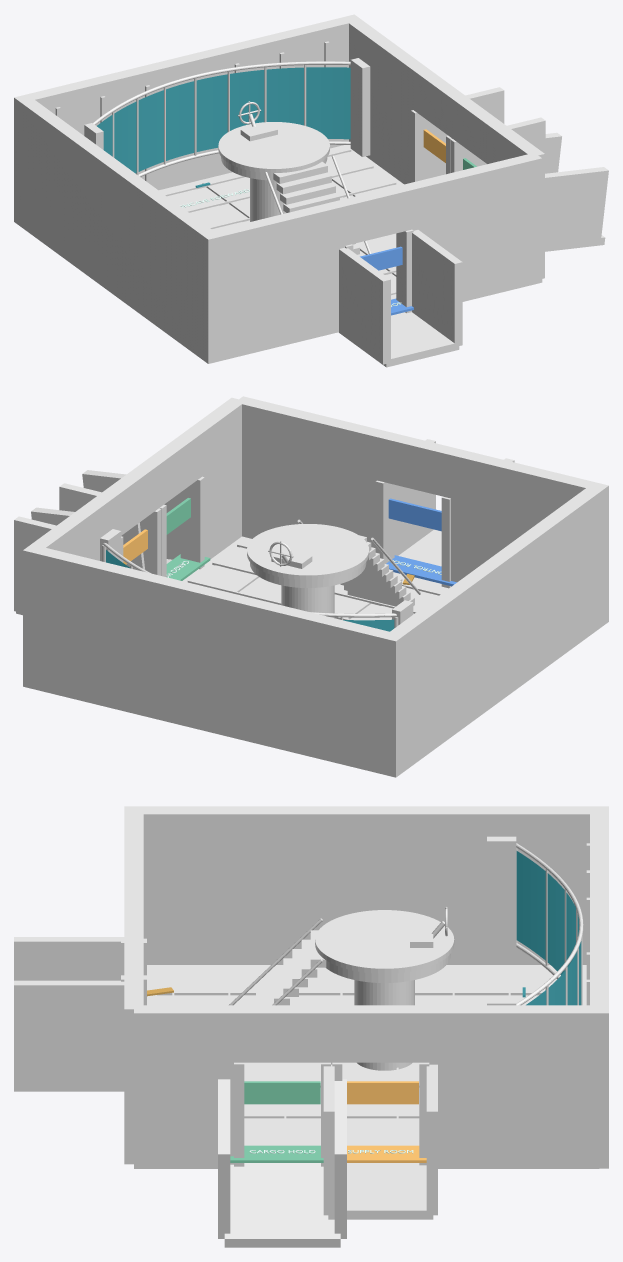
The model's file is armory_shell.glb.
The picture shows the model from 3 angles, top to bottom: view 1: azimuth 30°, elevation 25°; view 2: azimuth 150°, elevation 25°; view 3: azimuth 270°, elevation 25°; orthographic projection. The views are drawn at different scales.
Visible parts, largest first — view 1: AR-01 west sealed armory wall, AR-08 south control room left sealed wall, AR-06 placeholder curved forward view screen surface, AR-08 south control room right sealed wall, AR-01 solid forward curved-screen wall, AR-07 AR-09 east adjacent supply and cargo sealed final wall, AR-09 cargo ramp side wall, AR-08 control room south corridor side wall -0.92, AR-08 control room south corridor side wall +0.92, AR-04 placeholder platform safety rim, AR-07 AR-09 east adjacent supply and cargo supply room doorw (×2), AR-08 south control room doorway upper header (+19 smaller); view 2: AR-01 solid forward curved-screen wall, AR-01 west sealed armory wall, AR-08 south control room right sealed wall, AR-08 south control room left sealed wall, AR-07 AR-09 east adjacent supply and cargo sealed wall segme, AR-04 placeholder platform safety rim, AR-07 AR-09 east adjacent supply and cargo cargo hold ramp d (×2), AR-08 south control room doorway upper header, AR-07 AR-09 east adjacent supply and cargo supply room doorw (×2), AR-07 AR-09 east adjacent supply and cargo sealed final wall, armory removable floor plate +3.25, AR-08 control room south corridor side wall +0.92 (+18 smaller); view 3: AR-01 west sealed armory wall, AR-07 AR-09 east adjacent supply and cargo sealed final wall, AR-07 AR-09 east adjacent supply and cargo sealed wall segme (×2), AR-08 control room south corridor side wall +0.92, AR-09 cargo hold descending ramp floor, armory removable floor plate -3.25, AR-01 solid forward curved-screen wall, AR-04 placeholder platform safety rim, AR-06 placeholder curved forward view screen surface, AR-07 AR-09 east adjacent supply and cargo cargo hold ramp d (×2), AR-07 AR-09 east adjacent supply and cargo supply room doorw (×2), AR-08 control room south corridor side wall -0.92 (+20 smaller).
Boxes of the visible parts, left/top/right/bottom form: AR-01 west sealed armory wall: left=14, top=94, right=221, bottom=363; AR-08 south control room left sealed wall: left=211, top=200, right=348, bottom=361; AR-06 placeholder curved forward view screen surface: left=97, top=67, right=350, bottom=173; AR-08 south control room right sealed wall: left=401, top=152, right=542, bottom=301; AR-01 solid forward curved-screen wall: left=14, top=14, right=361, bottom=226; AR-07 AR-09 east adjacent supply and cargo sealed final wall: left=345, top=17, right=427, bottom=184; AR-09 cargo ramp side wall: left=545, top=167, right=608, bottom=250; AR-08 control room south corridor side wall -0.92: left=339, top=247, right=390, bottom=364; AR-08 control room south corridor side wall +0.92: left=412, top=230, right=462, bottom=346; AR-04 placeholder platform safety rim: left=218, top=122, right=329, bottom=172; AR-07 AR-09 east adjacent supply and cargo supply room doorw (×2): left=411, top=68, right=462, bottom=182; AR-08 south control room doorway upper header: left=341, top=185, right=408, bottom=244; AR-01 solid forward curved-screen wall: left=23, top=545, right=404, bottom=777; AR-01 west sealed armory wall: left=381, top=484, right=608, bottom=776; AR-08 south control room right sealed wall: left=235, top=396, right=388, bottom=547; AR-08 south control room left sealed wall: left=447, top=448, right=601, bottom=586; AR-07 AR-09 east adjacent supply and cargo sealed wall segme: left=185, top=397, right=245, bottom=559; AR-04 placeholder platform safety rim: left=247, top=524, right=369, bottom=579; AR-07 AR-09 east adjacent supply and cargo cargo hold ramp d (×2): left=147, top=431, right=204, bottom=569; AR-08 south control room doorway upper header: left=381, top=432, right=454, bottom=497; AR-07 AR-09 east adjacent supply and cargo supply room doorw (×2): left=104, top=463, right=161, bottom=575; AR-07 AR-09 east adjacent supply and cargo sealed final wall: left=27, top=491, right=118, bottom=560; armory removable floor plate +3.25: left=193, top=541, right=259, bottom=592; AR-08 control room south corridor side wall +0.92: left=394, top=439, right=435, bottom=555; AR-01 west sealed armory wall: left=124, top=806, right=608, bottom=964; AR-07 AR-09 east adjacent supply and cargo sealed final wall: left=424, top=1005, right=599, bottom=1168; AR-07 AR-09 east adjacent supply and cargo sealed wall segme (×2): left=134, top=1005, right=337, bottom=1168; AR-08 control room south corridor side wall +0.92: left=14, top=980, right=124, bottom=1088; AR-09 cargo hold descending ramp floor: left=224, top=1163, right=340, bottom=1247; armory removable floor plate -3.25: left=157, top=969, right=560, bottom=995; AR-01 solid forward curved-screen wall: left=590, top=806, right=608, bottom=1168; AR-04 placeholder platform safety rim: left=315, top=910, right=454, bottom=973; AR-06 placeholder curved forward view screen surface: left=516, top=851, right=581, bottom=1005; AR-07 AR-09 east adjacent supply and cargo cargo hold ramp d (×2): left=234, top=1005, right=325, bottom=1166; AR-07 AR-09 east adjacent supply and cargo supply room doorw (×2): left=337, top=1005, right=429, bottom=1165; AR-08 control room south corridor side wall -0.92: left=14, top=937, right=124, bottom=980.
Size of the model in its own units: 11.25 by 3.51 by 10.61.
